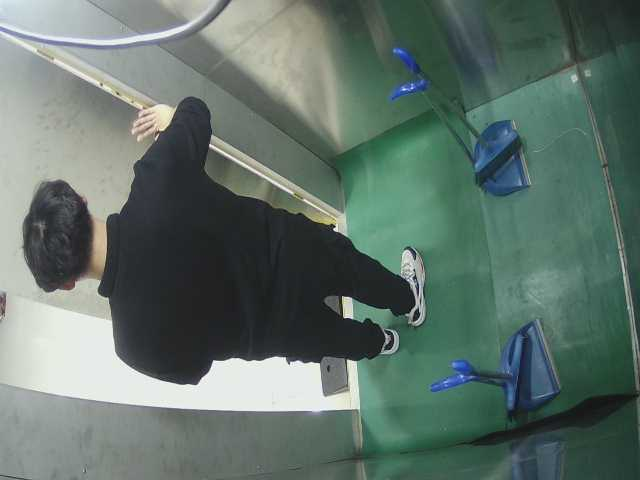broom: (372, 40, 548, 203), (421, 312, 573, 415)
person: (7, 139, 444, 349)
